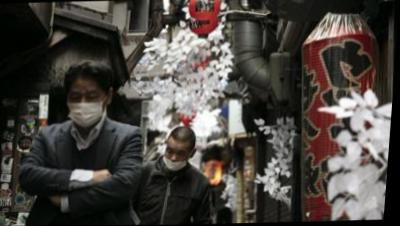OK: (69, 87, 108, 128)
WRONG: (167, 146, 191, 172)
